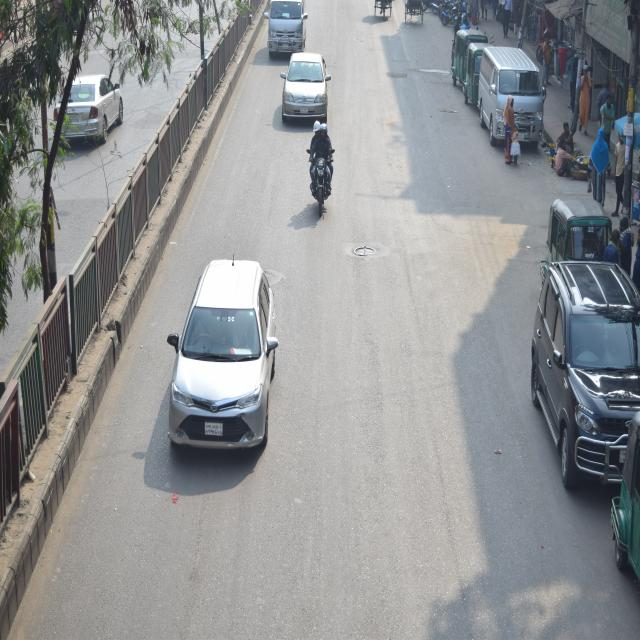car: (521, 268, 640, 498), (170, 249, 275, 478), (58, 77, 120, 148), (280, 49, 330, 118)
microbus: (476, 46, 554, 142), (264, 0, 298, 68)
motorbike: (306, 120, 340, 230)
